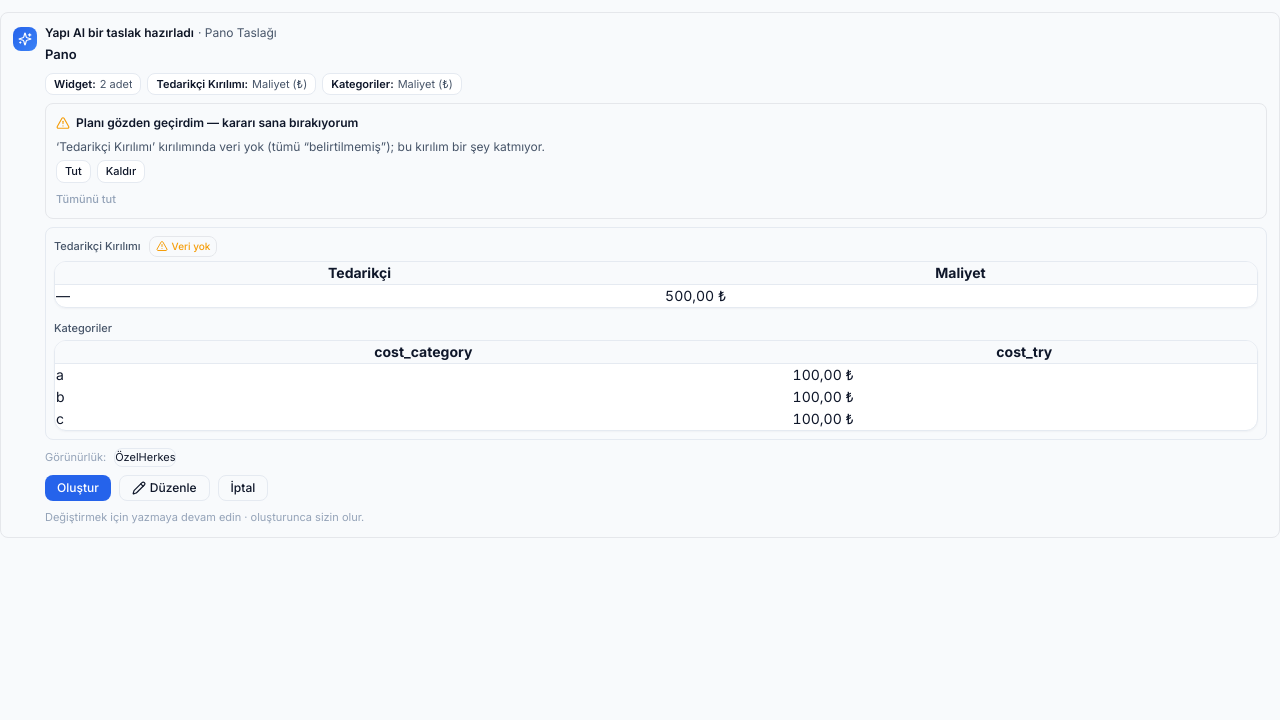
Test: CR-056 — data-aware findings from preview results › detects empty_dimension (one bucket) and Kaldır removes the widget
The width and height of the screenshot is (1280, 720).
Later steps or results of the test are not shown.
Check: the text "kırılımında veri yok" is shown, box [56,139,545,154]
Click the button "Kaldır". click: (121, 171)
box: [97,160,145,182]
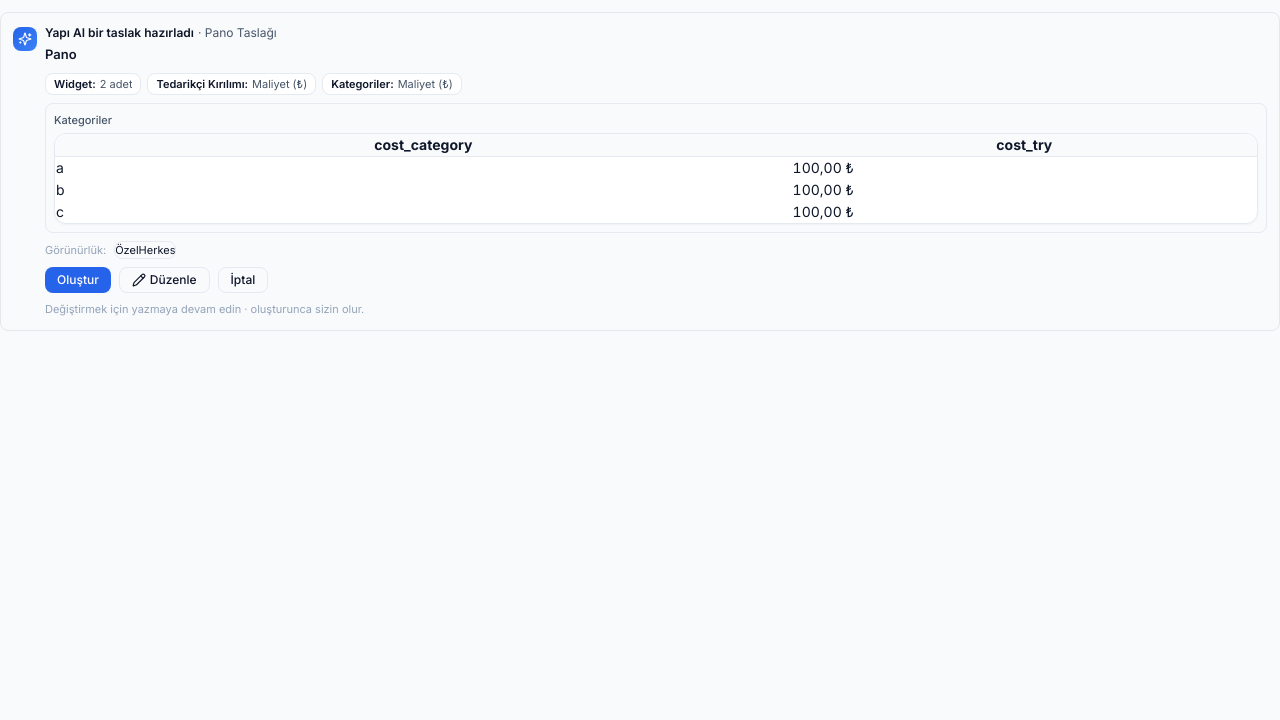
Check: the text "kırılımında veri yok" is gone
